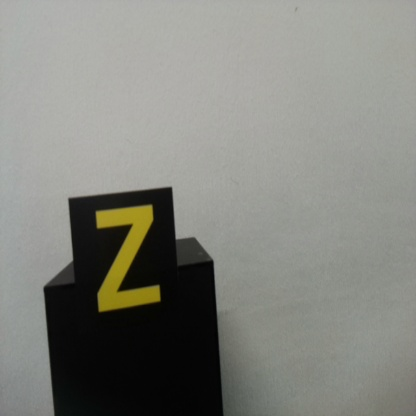id_15: (68, 198, 179, 328)
